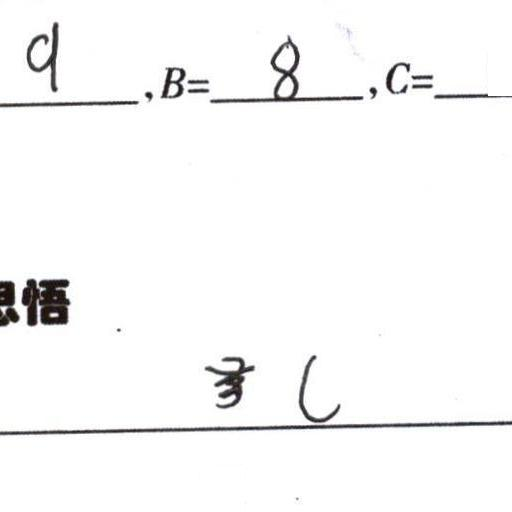ans: (292, 350, 343, 426), (23, 19, 64, 95), (268, 35, 303, 100)
